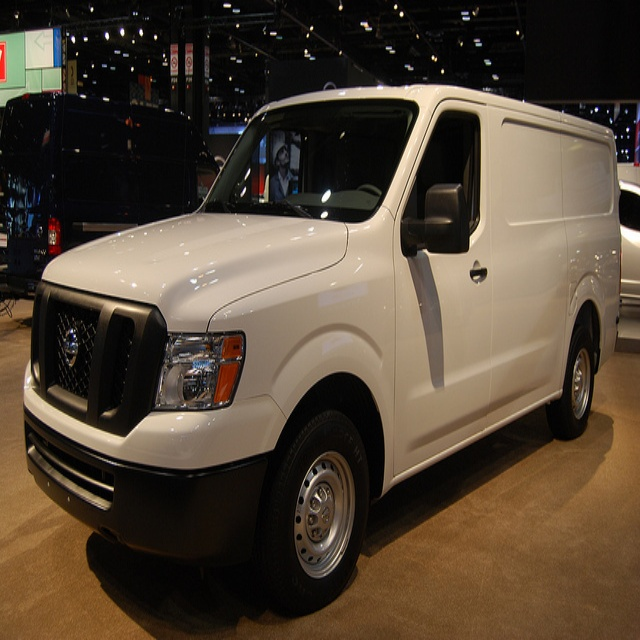Van: (23, 82, 621, 606)
